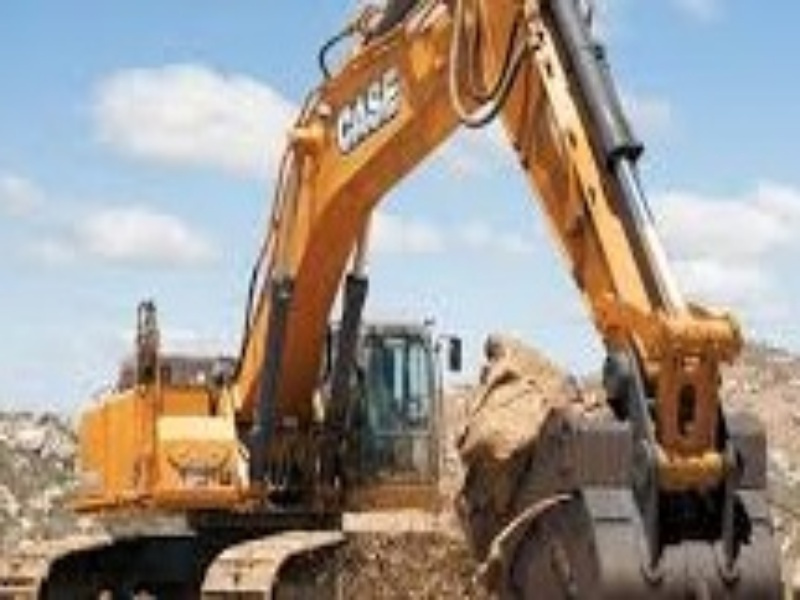wajueji: (22, 218, 487, 600)
